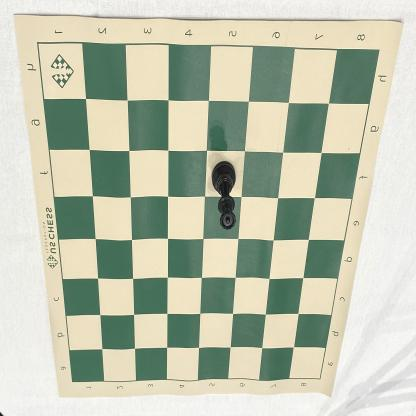black-queen: (212, 160, 236, 230)
